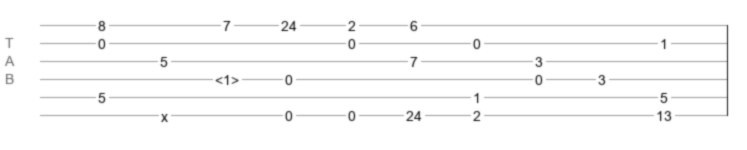0: (98, 36, 106, 46), (285, 72, 293, 82), (285, 108, 293, 118), (348, 36, 356, 46), (348, 108, 356, 118), (473, 36, 481, 46), (535, 72, 543, 82)
1: (473, 90, 481, 100), (660, 36, 668, 46)
13: (656, 108, 672, 118)
2: (348, 18, 356, 28), (473, 108, 481, 118)
24: (281, 18, 297, 28), (406, 108, 422, 118)
3: (535, 54, 543, 64), (598, 72, 606, 82)
5: (98, 90, 106, 100), (160, 54, 168, 64), (660, 90, 668, 100)
6: (410, 18, 418, 28)
7: (223, 18, 231, 28), (410, 54, 418, 64)
8: (98, 18, 106, 28)
harmonic: (215, 72, 239, 82)
x: (161, 109, 168, 117)
